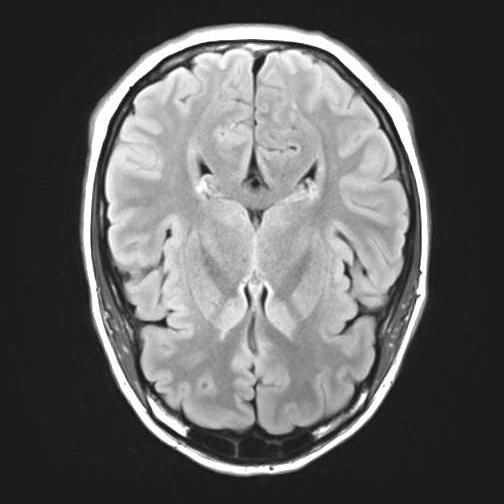Normal_Brain: (4, 1, 504, 504)
